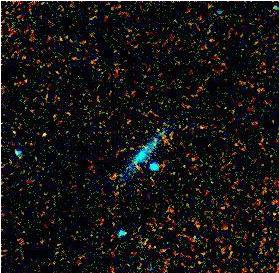star: (27, 119, 57, 149)
